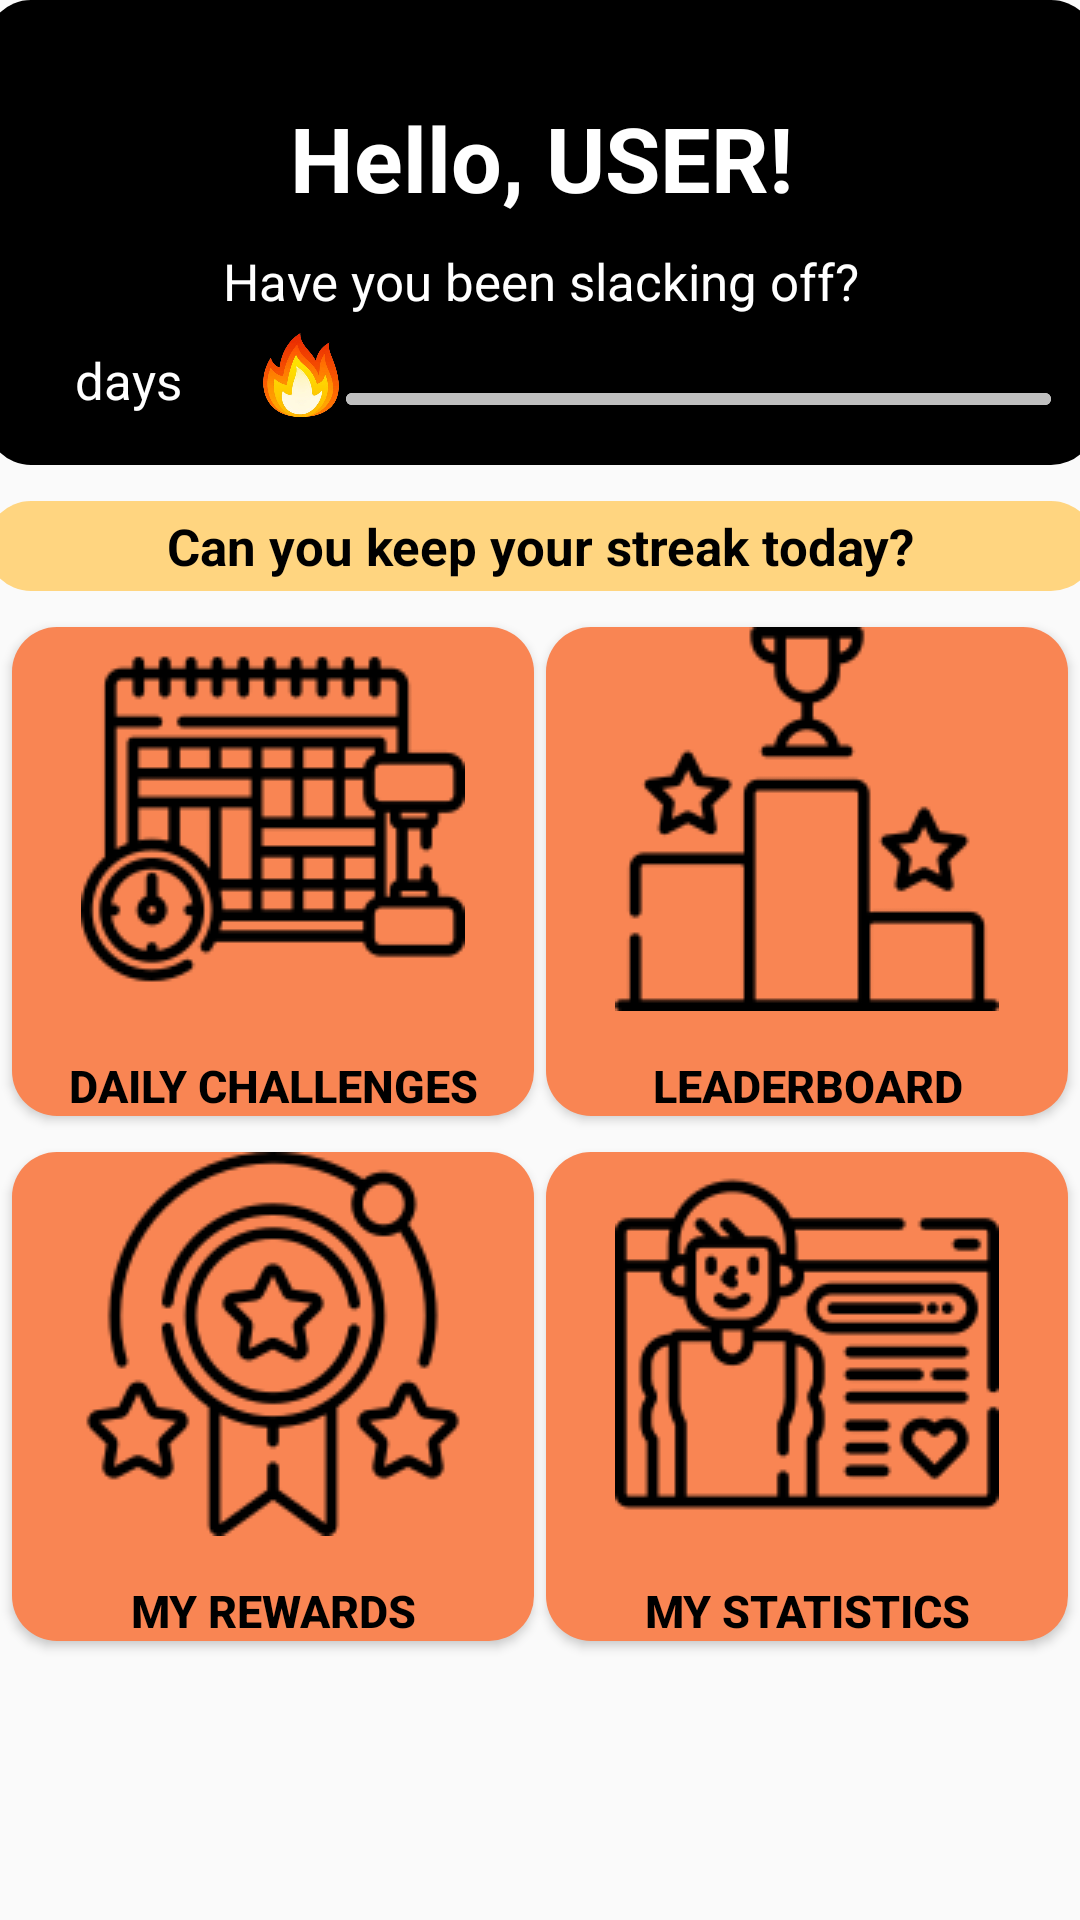

Named icons in this screenshot (1080x1920) and their centers, point (x, y):
fire streak: point (301, 375)
